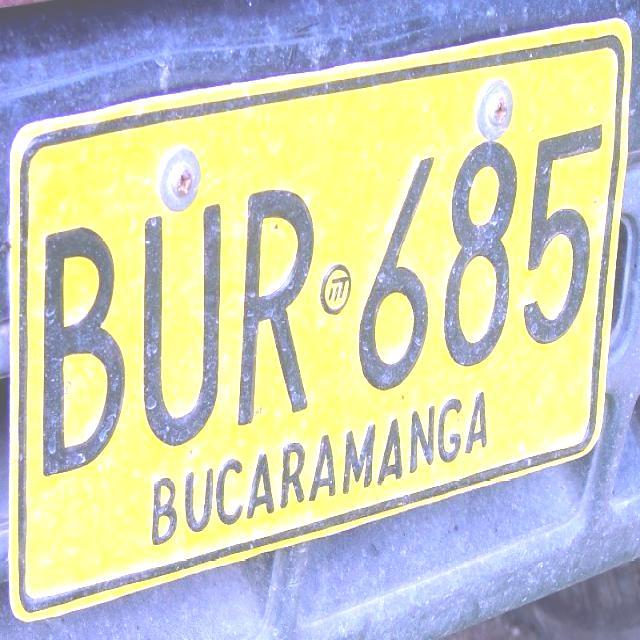placa: (3, 16, 630, 624)
